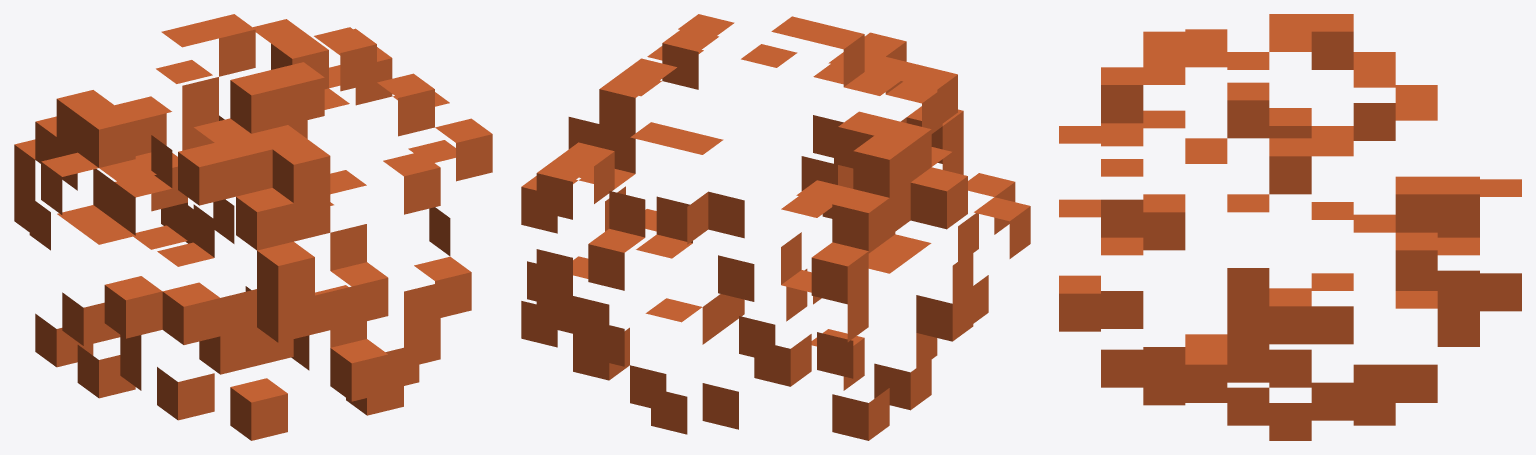
File: tree-maple-1p1-maple-d9662f.gltf
3 views of the same model, side by side, from view 1: azimuth 30°, elevation 25°; view 2: azimuth 150°, elevation 25°; view 3: azimuth 270°, elevation 25° (orthographic).
Visible parts, largest first — view 1: tree-maple-1p1-maple-d9662f; view 2: tree-maple-1p1-maple-d9662f; view 3: tree-maple-1p1-maple-d9662f.
Boxes of the visible parts, x1=… form: tree-maple-1p1-maple-d9662f: x1=14, y1=14, x2=492, y2=440; tree-maple-1p1-maple-d9662f: x1=521, y1=14, x2=1030, y2=440; tree-maple-1p1-maple-d9662f: x1=1059, y1=14, x2=1521, y2=440.
Size of the model in its own units: 11 by 9 by 11.
